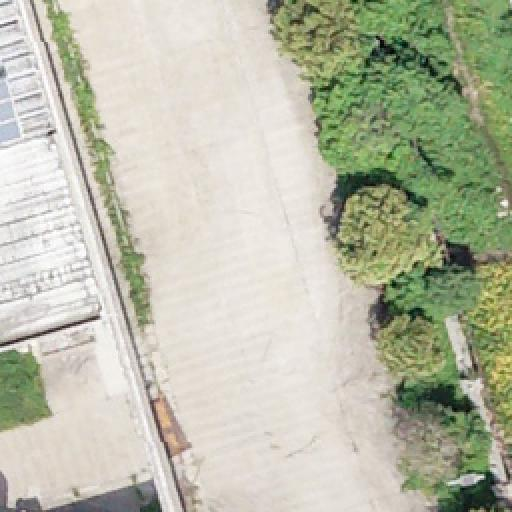solar-panel: (0, 78, 24, 146)
